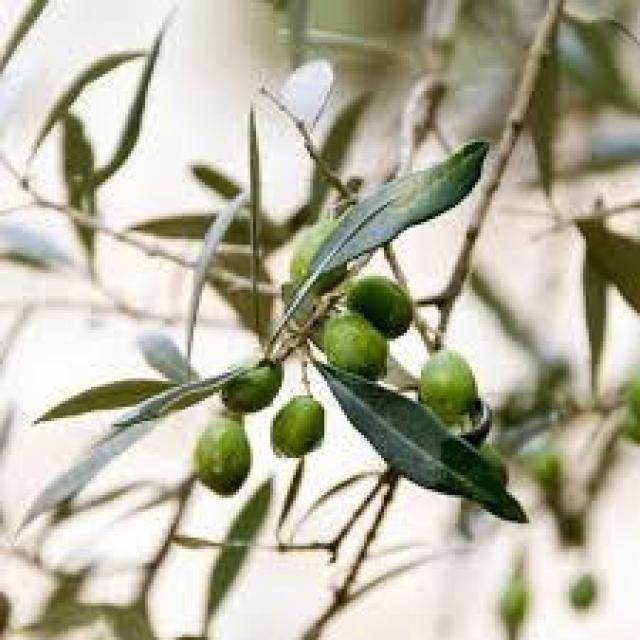Healthy: (319, 310, 387, 378), (418, 347, 478, 420), (194, 419, 250, 492), (352, 274, 415, 336), (272, 395, 322, 458)
